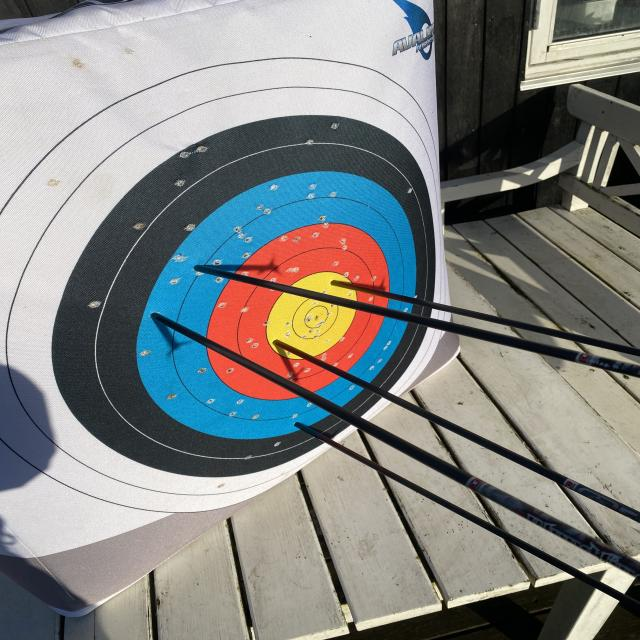Arrow_Blue: (144, 303, 177, 334), (187, 256, 212, 286), (291, 414, 316, 444)
Arrow_Yellow: (324, 274, 367, 299), (268, 330, 289, 360)
